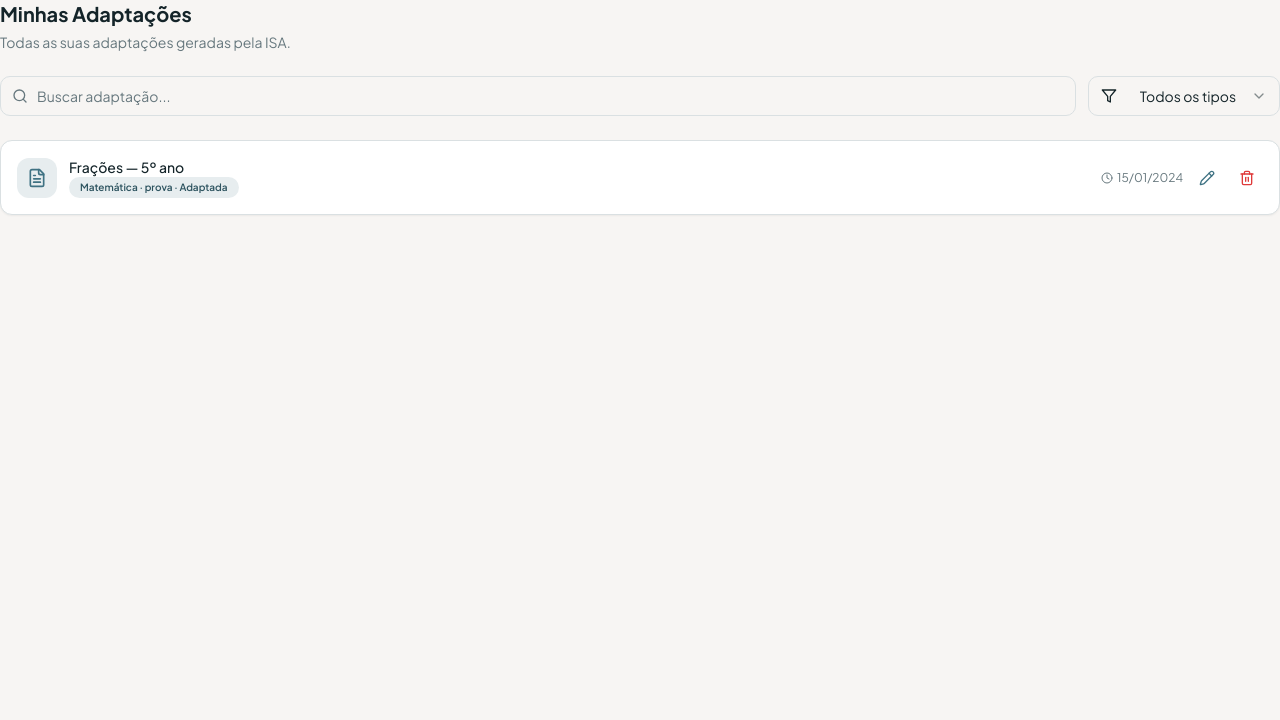
Test case: MyAdaptations Page › opens delete confirmation dialog
Expected: the text "Frações — 5º ano" is shown, [69,158,184,176]
Click trash icon button (stop propagation area)
Click the 2nd button: click(1247, 178) [1231,162,1263,194]
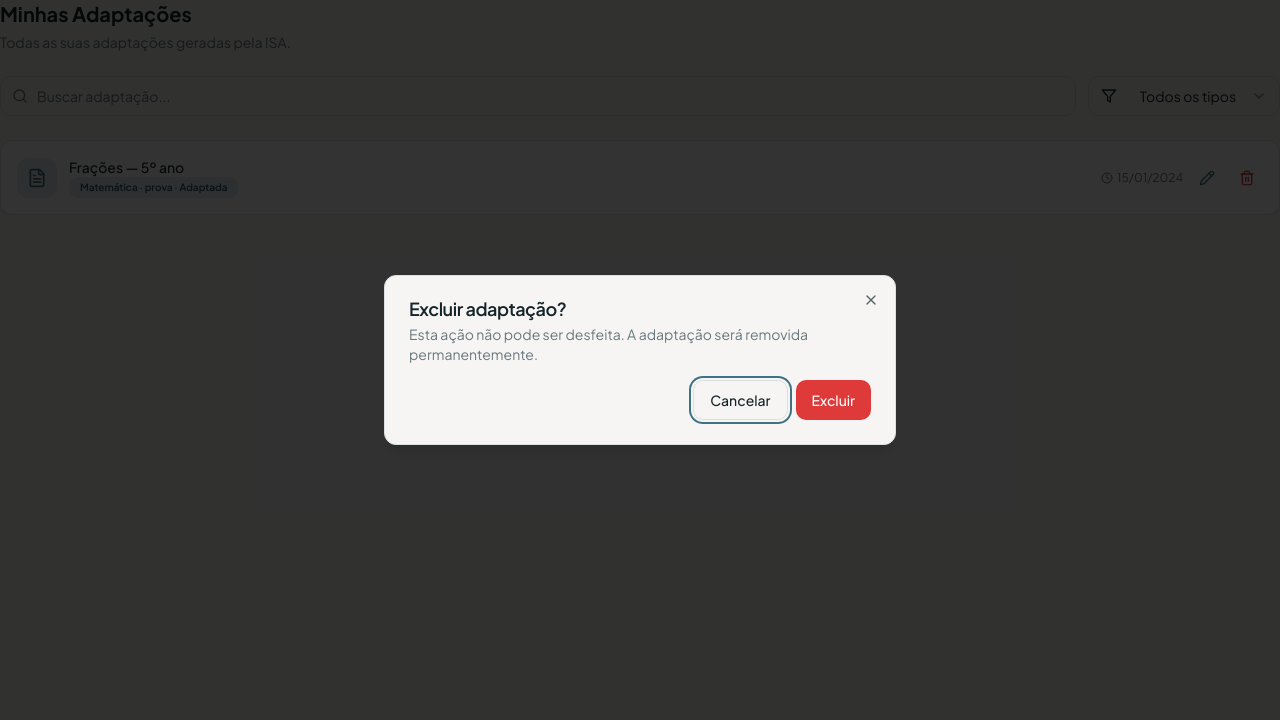
Expected: the heading "Excluir adaptação?" is shown, [409,297,566,320]
Expected: the text "não pode ser desfeita" is shown, [409,325,808,363]
